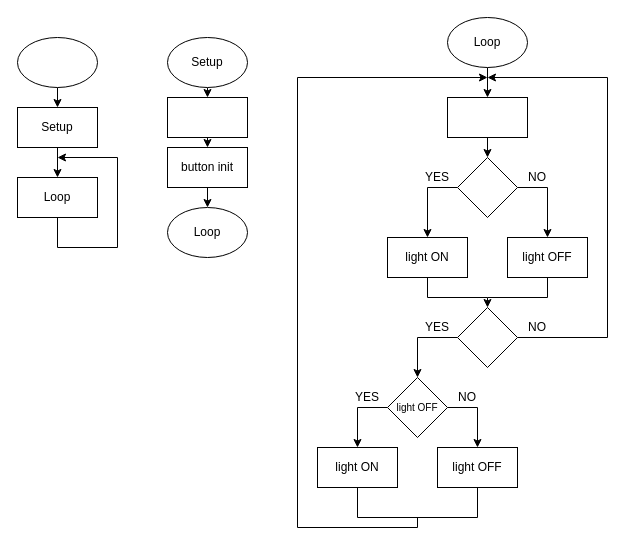
The diagram is 633 pixels wide and 546 high, and some of its shapes have lost their labels. The shapes that lost their labels are listed below. From the top down, each one's centre as x and y in pixels, then its label:
At point (57, 62): "Main".
At point (207, 117): "led init".
At point (487, 117): "read buttonValue".
At point (487, 187): "turned =1".
At point (487, 337): "button pressed".
